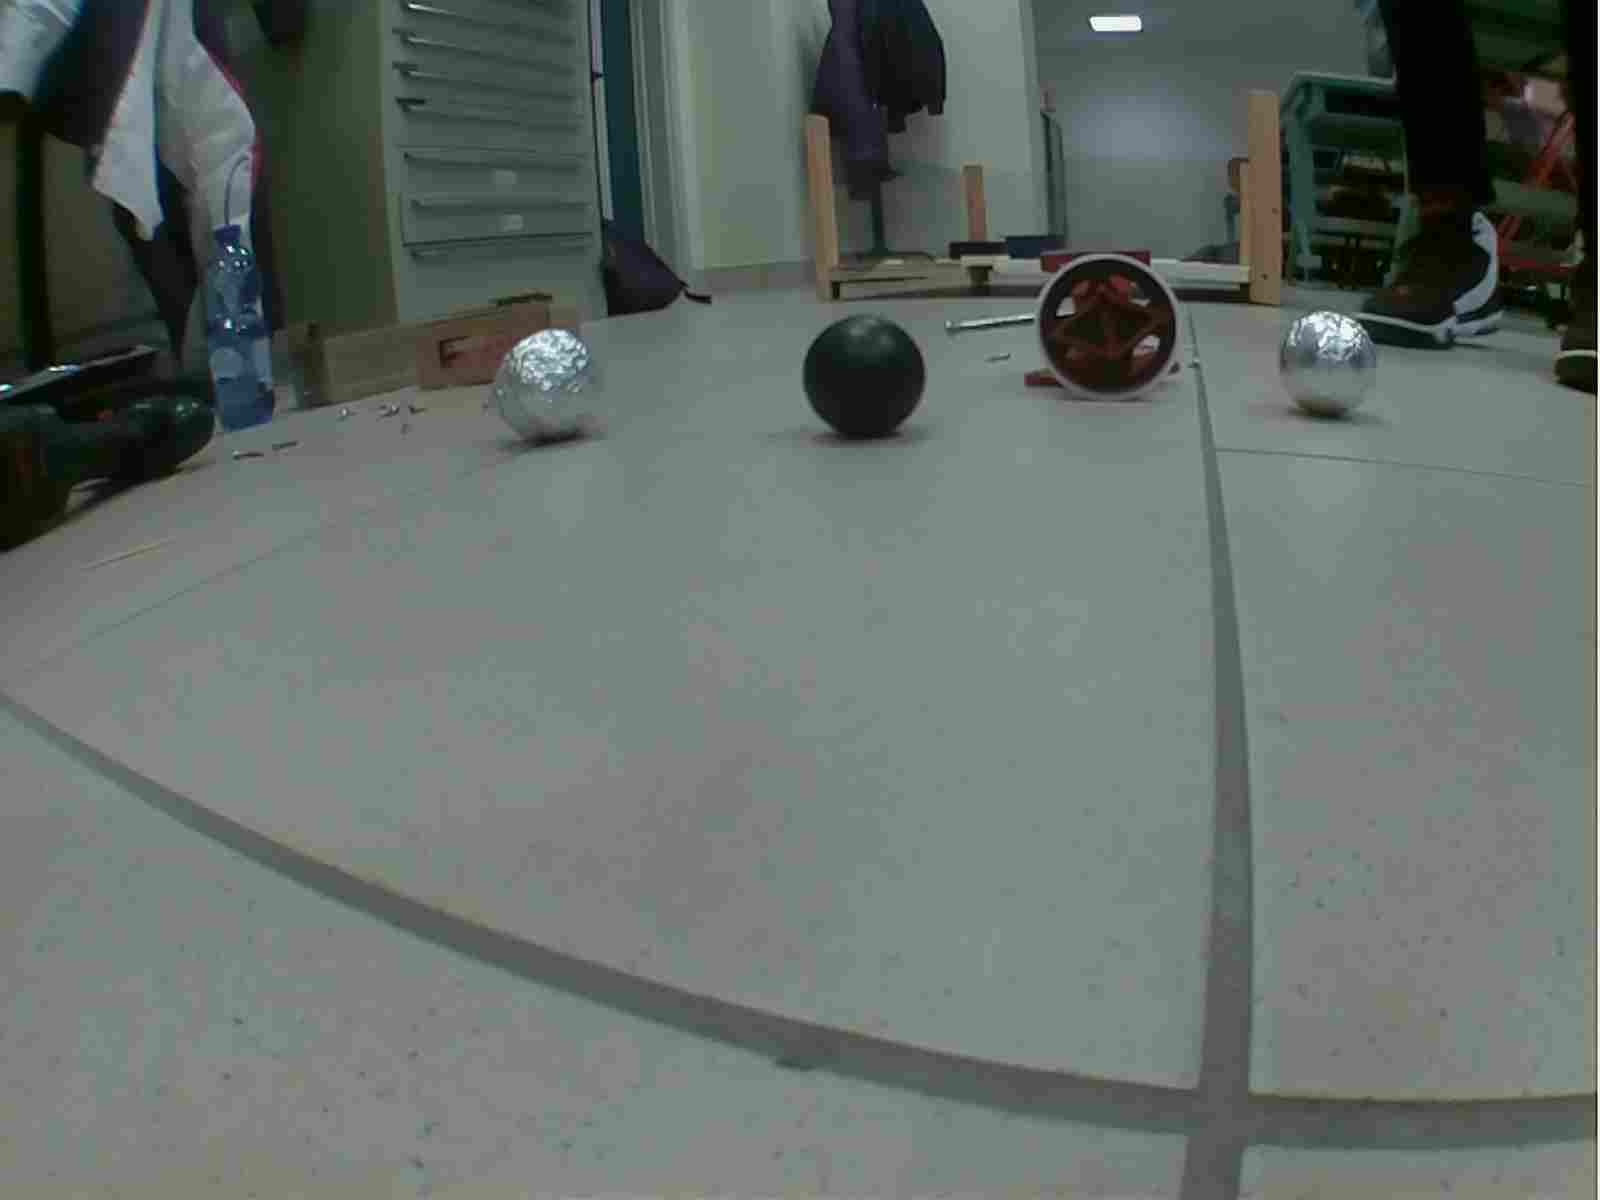bianca: (493, 326, 601, 446), (1277, 310, 1373, 416)
nera: (799, 311, 930, 444)
